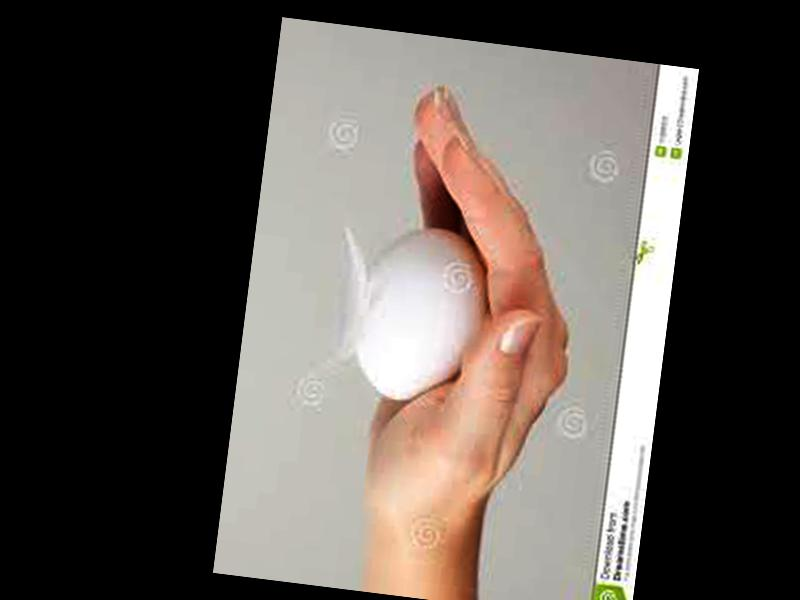Eggs: (351, 217, 494, 411)
